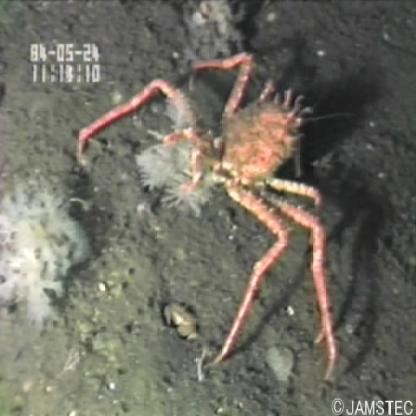Bio: (71, 47, 341, 386)
